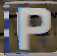Parking: (9, 5, 52, 55)
